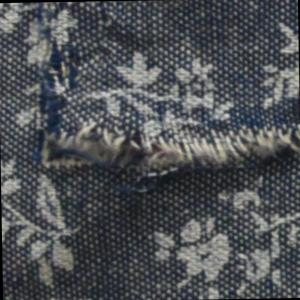Damage: (21, 1, 300, 201)
